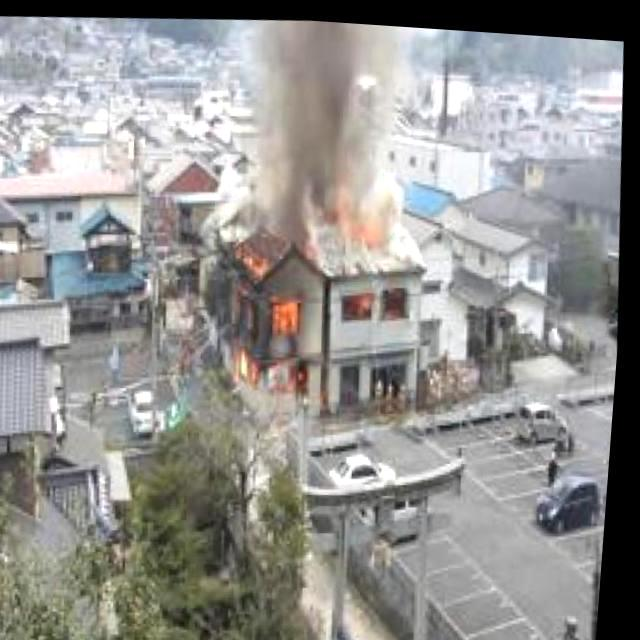fire: (220, 240, 314, 400), (341, 285, 381, 319)
